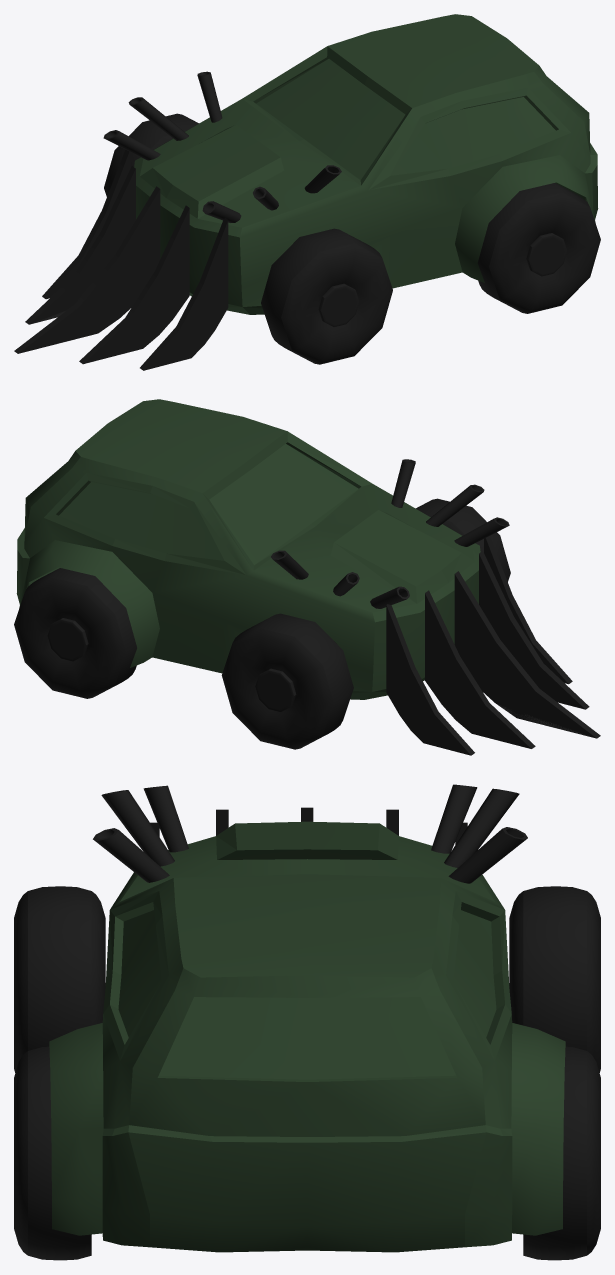
File: Kamikace.FBX
The picture shows the model from 3 angles, top to bottom: view 1: azimuth 30°, elevation 25°; view 2: azimuth 150°, elevation 25°; view 3: azimuth 270°, elevation 25°; orthographic projection. The views are drawn at different scales.
Visible parts, largest first — view 1: Carroceria; view 2: Carroceria; view 3: Carroceria.
Part boxes in pixels (x1,y1,x2,y2): Carroceria: [14, 14, 600, 370]; Carroceria: [14, 399, 600, 755]; Carroceria: [14, 784, 600, 1260].
Size of the model in its own units: 1667 by 585 by 997.
